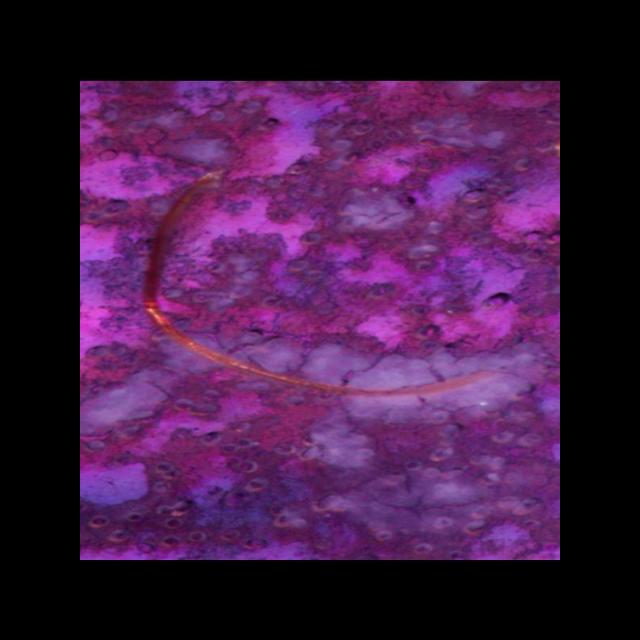Fibre: (140, 167, 530, 401)
